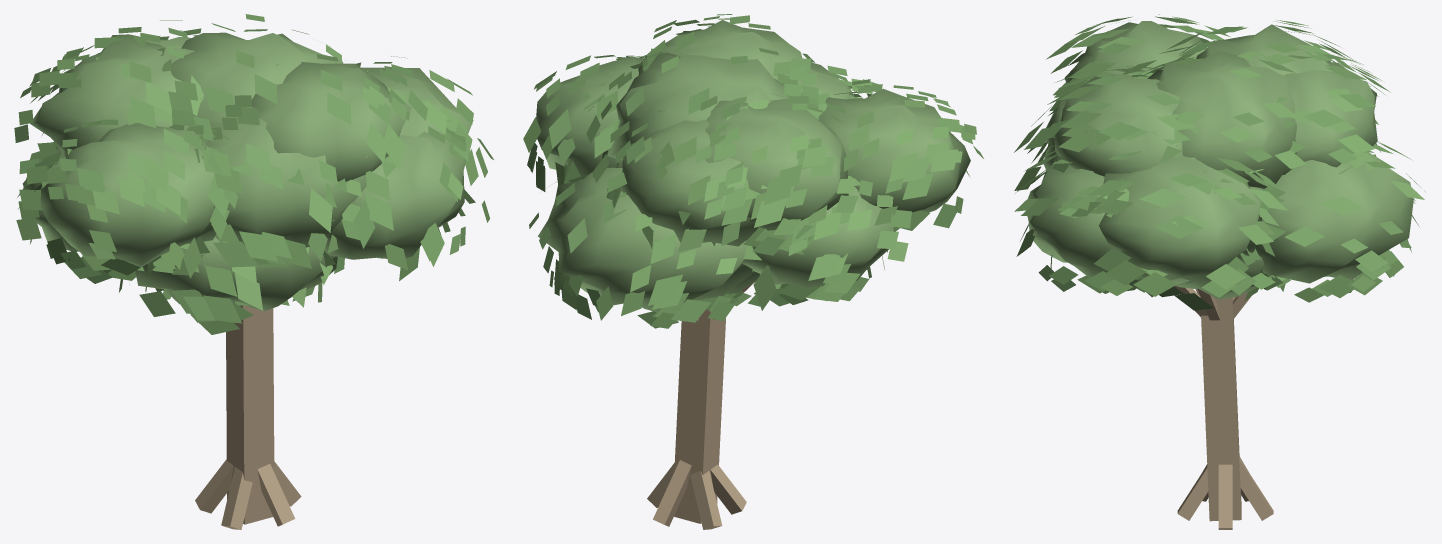
The model's file is garden_tree.glb.
3 renders of one model, left to right at view 1: azimuth 30°, elevation 25°; view 2: azimuth 150°, elevation 25°; view 3: azimuth 270°, elevation 25°, orthographic. The views are drawn at different scales.
Visible parts, largest first — view 1: SourceMesh_00032, SourceMesh_00028, SourceMesh_00030, SourceMesh_00025, SourceMesh_00000, SourceMesh_00031, SourceMesh_00022, SourceMesh_00029, SourceMesh_00020, SourceMesh_00027, SourceMesh_00003, SourceMesh_00002 (+2 smaller); view 2: SourceMesh_00032, SourceMesh_00021, SourceMesh_00028, SourceMesh_00031, SourceMesh_00029, SourceMesh_00026, SourceMesh_00000, SourceMesh_00027, SourceMesh_00023, SourceMesh_00030, SourceMesh_00005, SourceMesh_00004 (+2 smaller); view 3: SourceMesh_00032, SourceMesh_00021, SourceMesh_00027, SourceMesh_00029, SourceMesh_00030, SourceMesh_00000, SourceMesh_00022, SourceMesh_00026, SourceMesh_00028, SourceMesh_00031, SourceMesh_00001, SourceMesh_00005 (+3 smaller).
Part boxes in pixels (x1,y1,x2,y2): SourceMesh_00032: (14,14,493,334); SourceMesh_00028: (40,123,224,267); SourceMesh_00030: (251,62,411,181); SourceMesh_00025: (202,117,373,247); SourceMesh_00000: (226,305,274,524); SourceMesh_00031: (30,35,194,158); SourceMesh_00022: (324,131,466,259); SourceMesh_00029: (171,32,343,126); SourceMesh_00020: (135,237,337,311); SourceMesh_00027: (361,67,473,145); SourceMesh_00003: (221,467,252,529); SourceMesh_00002: (257,464,295,526); SourceMesh_00032: (523,14,983,328); SourceMesh_00021: (538,168,753,312); SourceMesh_00028: (818,88,970,212); SourceMesh_00031: (705,98,848,230); SourceMesh_00029: (607,52,802,160); SourceMesh_00026: (620,120,757,246); SourceMesh_00000: (674,309,725,523); SourceMesh_00027: (536,57,643,176); SourceMesh_00023: (742,187,894,287); SourceMesh_00030: (638,20,802,79); SourceMesh_00005: (653,460,691,526); SourceMesh_00004: (690,471,722,529); SourceMesh_00032: (1014,14,1425,310); SourceMesh_00021: (1255,152,1413,283); SourceMesh_00027: (1099,156,1261,284); SourceMesh_00029: (1147,51,1296,188); SourceMesh_00030: (1054,74,1183,176); SourceMesh_00000: (1200,297,1241,521); SourceMesh_00022: (1027,161,1149,277); SourceMesh_00026: (1282,62,1377,174); SourceMesh_00028: (1064,21,1207,82); SourceMesh_00031: (1196,24,1333,75); SourceMesh_00001: (1218,464,1232,529); SourceMesh_00005: (1239,458,1273,520).
Size of the model in its own units: 3.15 by 3.25 by 2.7.
